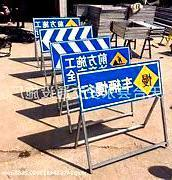sign: (79, 68, 163, 115), (63, 51, 130, 84), (34, 17, 89, 43)
